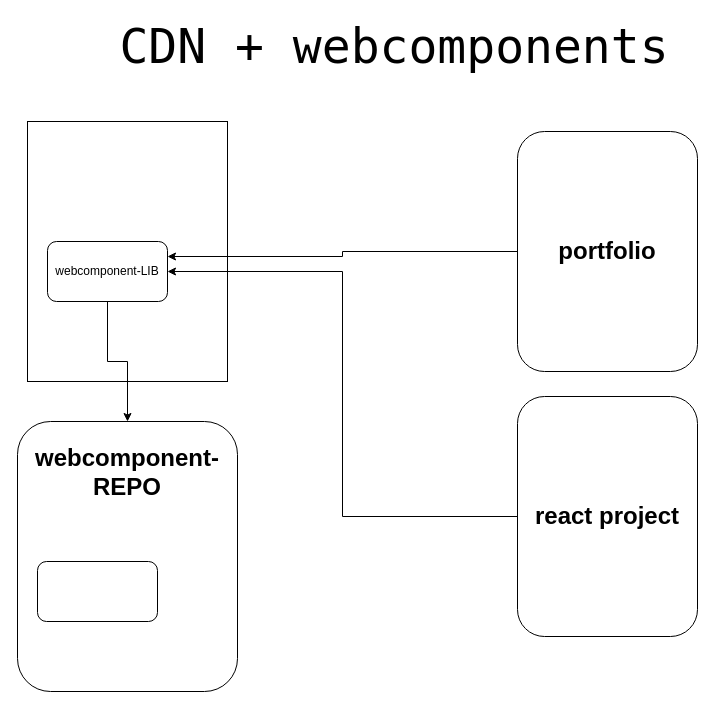
The diagram is 715 pixels wide and 709 high, and some of its shapes have lost their labels. Each missing label, with the box of its shape:
bussiness-card: (36, 560, 158, 622)
CDN: (26, 120, 228, 382)
